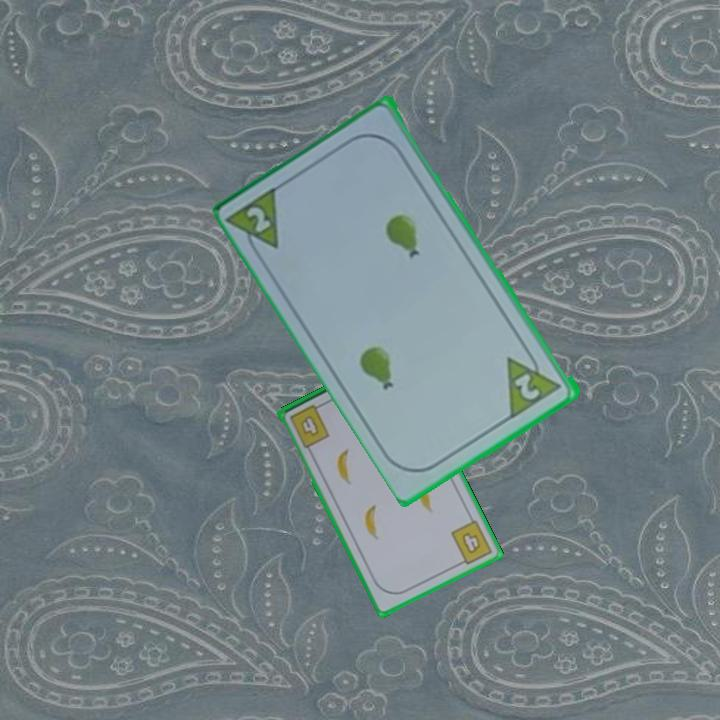2p: (503, 343, 566, 421), (243, 202, 275, 236)
4b: (447, 516, 496, 569), (286, 400, 333, 451)
